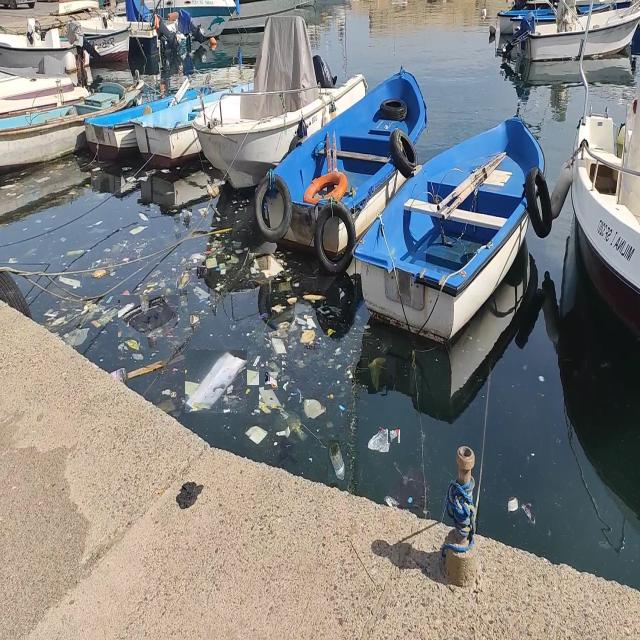Bottle cap: (408, 496, 413, 504), (260, 362, 265, 369)
Juice box: (264, 372, 278, 390)
Plastic: (244, 423, 269, 447), (258, 384, 282, 408), (230, 366, 258, 385), (160, 313, 181, 331), (192, 284, 212, 302), (271, 338, 288, 358), (58, 275, 82, 288), (128, 224, 148, 237), (266, 360, 282, 375), (275, 424, 291, 438), (302, 316, 317, 330), (251, 354, 261, 371), (138, 211, 150, 223), (132, 351, 144, 362), (294, 315, 306, 326)
Plastic bag: (393, 464, 433, 512), (273, 406, 309, 444), (368, 354, 386, 394), (64, 326, 90, 347), (518, 499, 535, 526)
Plastic bottle: (328, 440, 346, 483), (110, 364, 127, 384), (146, 318, 159, 344), (179, 290, 189, 308), (182, 209, 192, 226), (173, 216, 181, 234)
Plastic cup: (507, 496, 520, 514), (189, 314, 200, 326)
Plastic packaging: (302, 397, 328, 422), (367, 426, 390, 454), (124, 337, 140, 352), (388, 428, 400, 443), (260, 404, 271, 415), (338, 404, 346, 412), (243, 387, 250, 395)
Undefined trash: (184, 350, 247, 413), (118, 295, 178, 337), (249, 253, 284, 280)
Wood: (127, 353, 186, 381)
